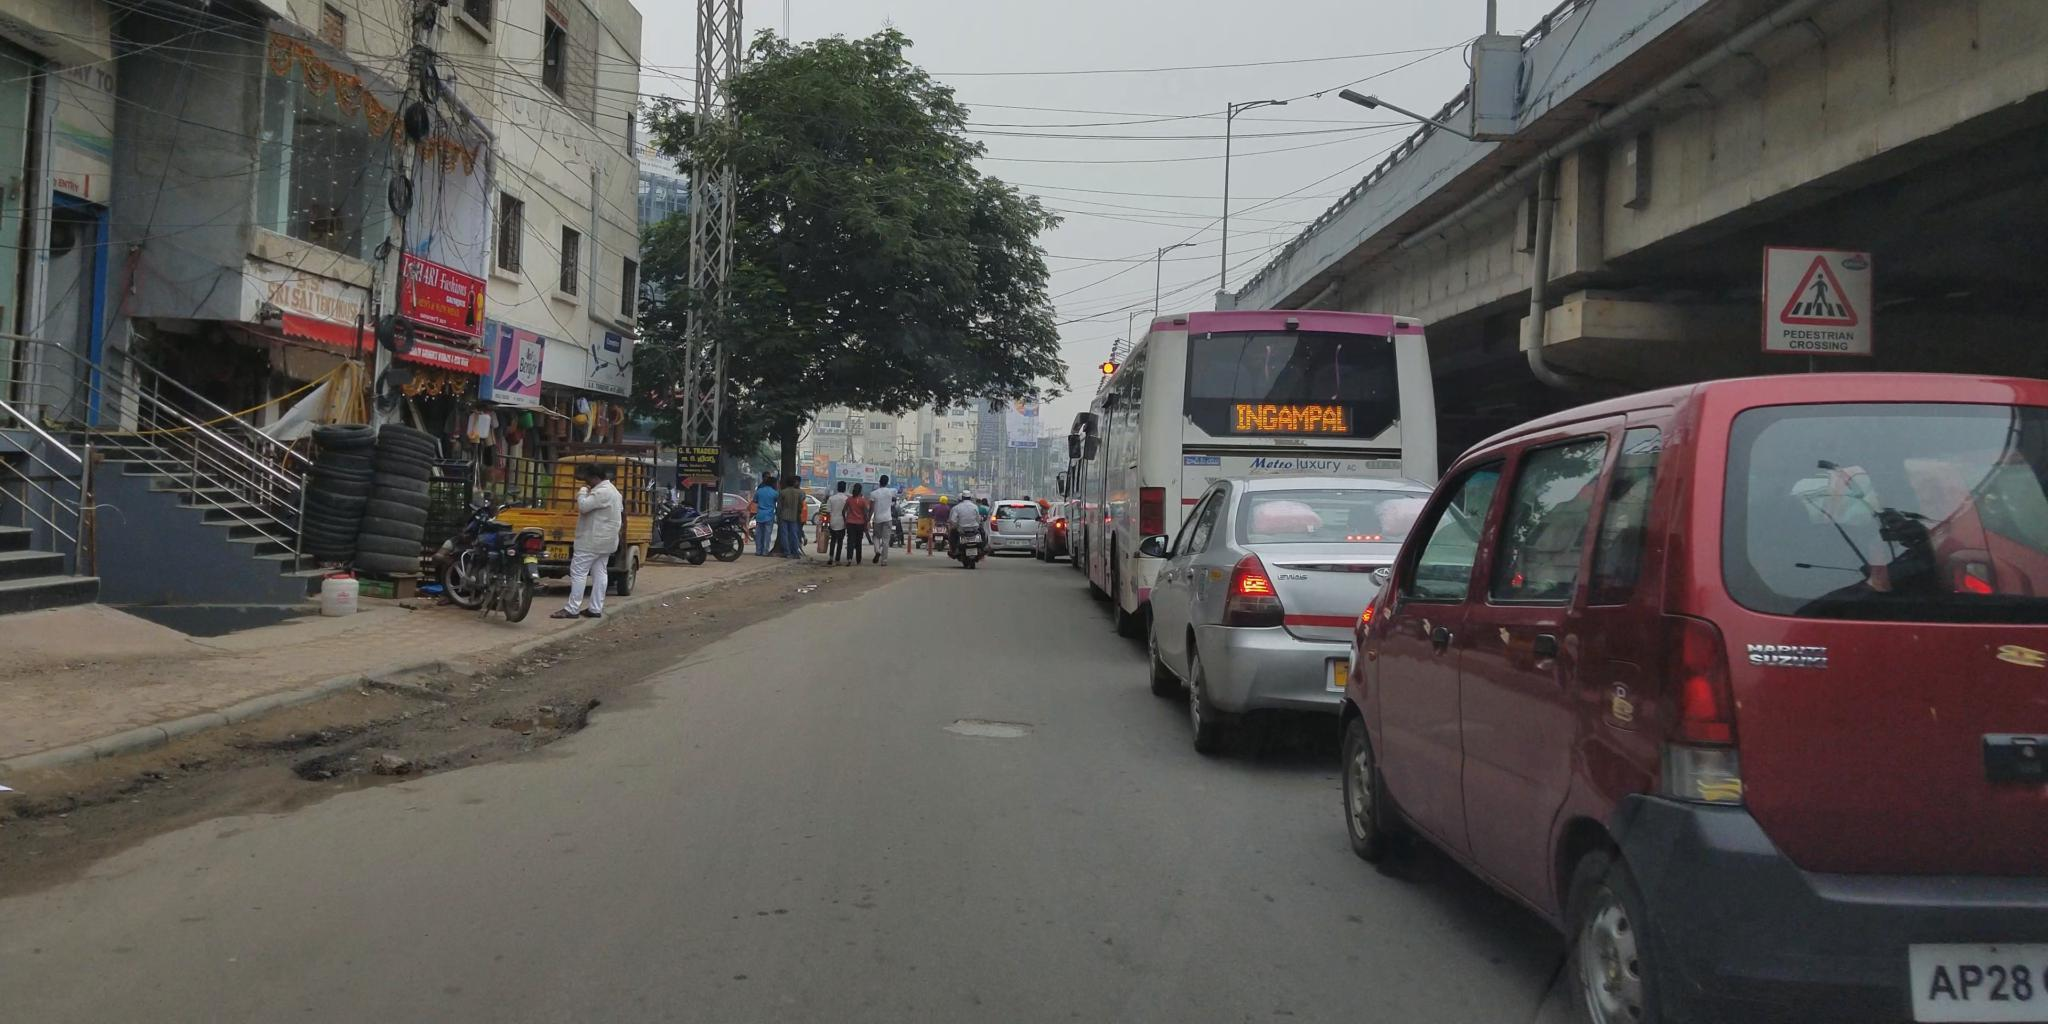off: (0, 0, 2048, 1007)
